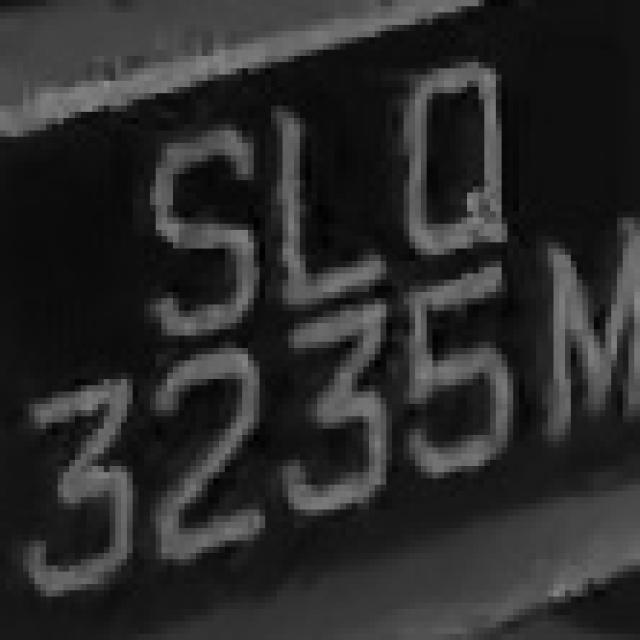2: (144, 311, 277, 534)
3: (11, 348, 156, 572), (265, 305, 404, 528)
5: (398, 255, 536, 484)
L: (265, 93, 398, 317)
M: (5, 2, 6, 5)
Q: (386, 56, 530, 267)
S: (138, 99, 271, 317)
